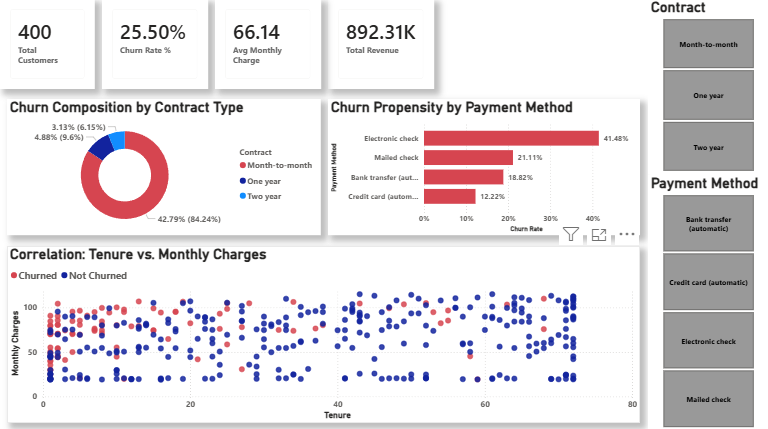

What the dashboard file says about the page in this screenshot:
{"tool":"powerbi","page":{"name":"Customer Churn Summary","canvas":[1280,720],"ordinal":0},"visuals":[{"type":"cardVisual","fields":{"Data":["churn_analysis.Total Customers"]},"box":[0,0,158.3,150],"z":0},{"type":"cardVisual","fields":{"Data":["churn_analysis.Churn Rate %"]},"box":[170,0,176.7,150],"z":1000},{"type":"cardVisual","fields":{"Data":["churn_analysis.Total Revenue"]},"box":[546.7,0,176.7,150],"z":2000},{"type":"cardVisual","fields":{"Data":["churn_analysis.Avg Monthly Charge"]},"box":[358.3,0,176.7,150],"z":3000},{"type":"donutChart","title":"Churn Composition by Contract Type","fields":{"Y":["churn_analysis.Churn Rate %"],"Category":["churn_analysis.Contract"]},"box":[11.7,166.7,523.3,226.7],"z":4000},{"type":"clusteredBarChart","title":"Churn Propensity by Payment Method","fields":{"Y":["churn_analysis.Churn Rate %"],"Category":["churn_analysis.PaymentMethod"]},"box":[546.7,166.7,520,226.7],"z":5000},{"type":"scatterChart","title":"Correlation: Tenure vs. Monthly Charges","fields":{"X":["churn_analysis.tenure"],"Y":["churn_analysis.MonthlyCharges"],"Series":["churn_analysis.Churn Label"]},"box":[11.7,411.7,1055,295],"z":6000},{"type":"slicer","title":"Contract","fields":{"Values":["churn_analysis.Contract"]},"box":[1080,0,200,293.3],"z":7000},{"type":"slicer","title":"Payment Method","fields":{"Values":["churn_analysis.PaymentMethod"]},"box":[1080,293.3,200,426.7],"z":8000}]}

Visuals, with their boxes in screenshot pixels (x1, y1, x2, y2), scaled from the page's 1280x720 canvas onto the 768x429 screenshot:
cardVisual - churn_analysis.Total Customers: <box>0,0,95,89</box>
cardVisual - churn_analysis.Churn Rate %: <box>102,0,208,89</box>
cardVisual - churn_analysis.Total Revenue: <box>328,0,434,89</box>
cardVisual - churn_analysis.Avg Monthly Charge: <box>215,0,321,89</box>
"Churn Composition by Contract Type" donutChart: <box>7,99,321,234</box>
"Churn Propensity by Payment Method" clusteredBarChart: <box>328,99,640,234</box>
"Correlation: Tenure vs. Monthly Charges" scatterChart: <box>7,245,640,421</box>
"Contract" slicer: <box>648,0,767,175</box>
"Payment Method" slicer: <box>648,175,767,428</box>
